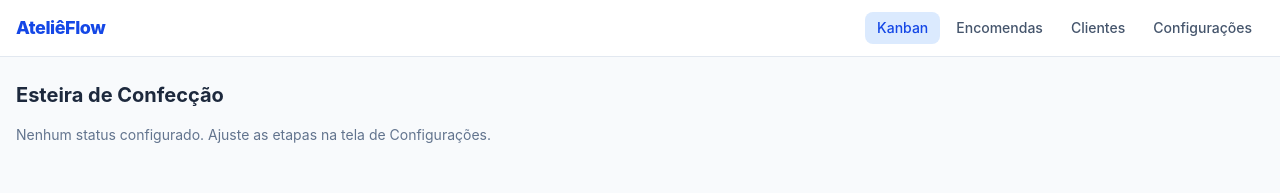
it: App › navega para a página de clientes pelo menu
The image size is (1280, 193).
Click the link "Clientes".
click(1098, 28)  # box [1071,19,1125,36]
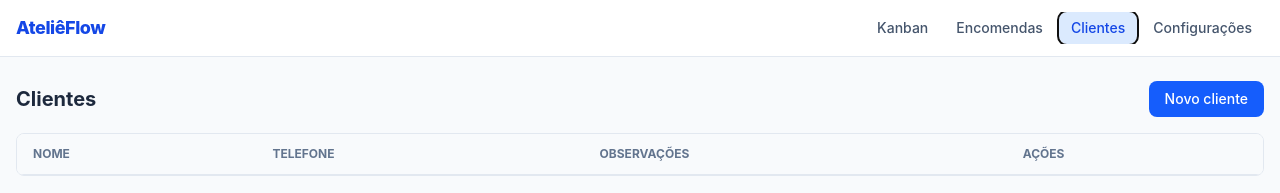
Result: the heading "Clientes" is shown at [16,85,96,113]
